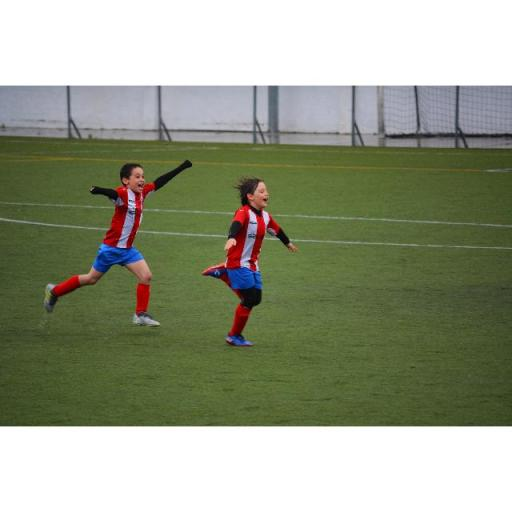Running: (196, 170, 307, 355)
